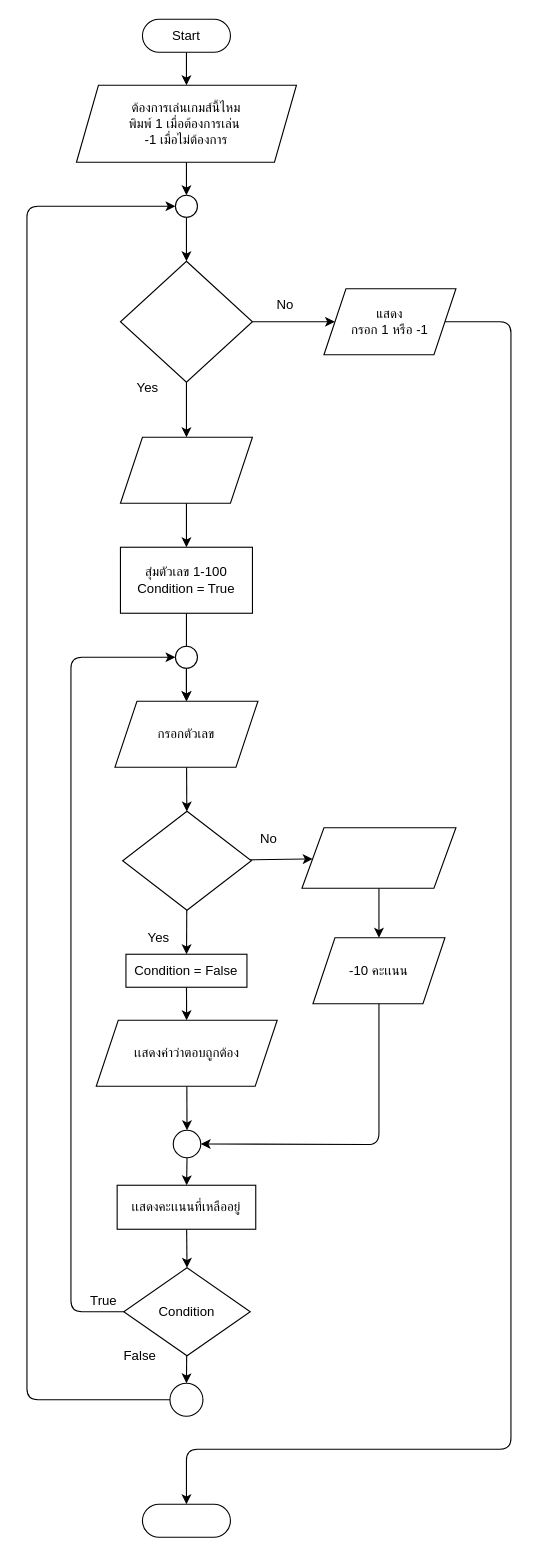
Image size: 539x1557. Some labels were removed from this diagram. Here are the shapes that lost their labels. From the top down, the box of each, then its label:
(119, 260, 252, 382): ค่าที่ได้รับมาเป็น 1 หรือ -1 หรือไม่
(119, 436, 252, 503): มีคะเเนนอยู่ 100
(122, 810, 251, 910): คำตอบถูกหรือไม่
(301, 827, 456, 888): แสดงค่าบอกว่า มากกว่าหรือน้อยกว่า จากตัวเลขที่เรากรอก
(141, 1503, 230, 1537): End
